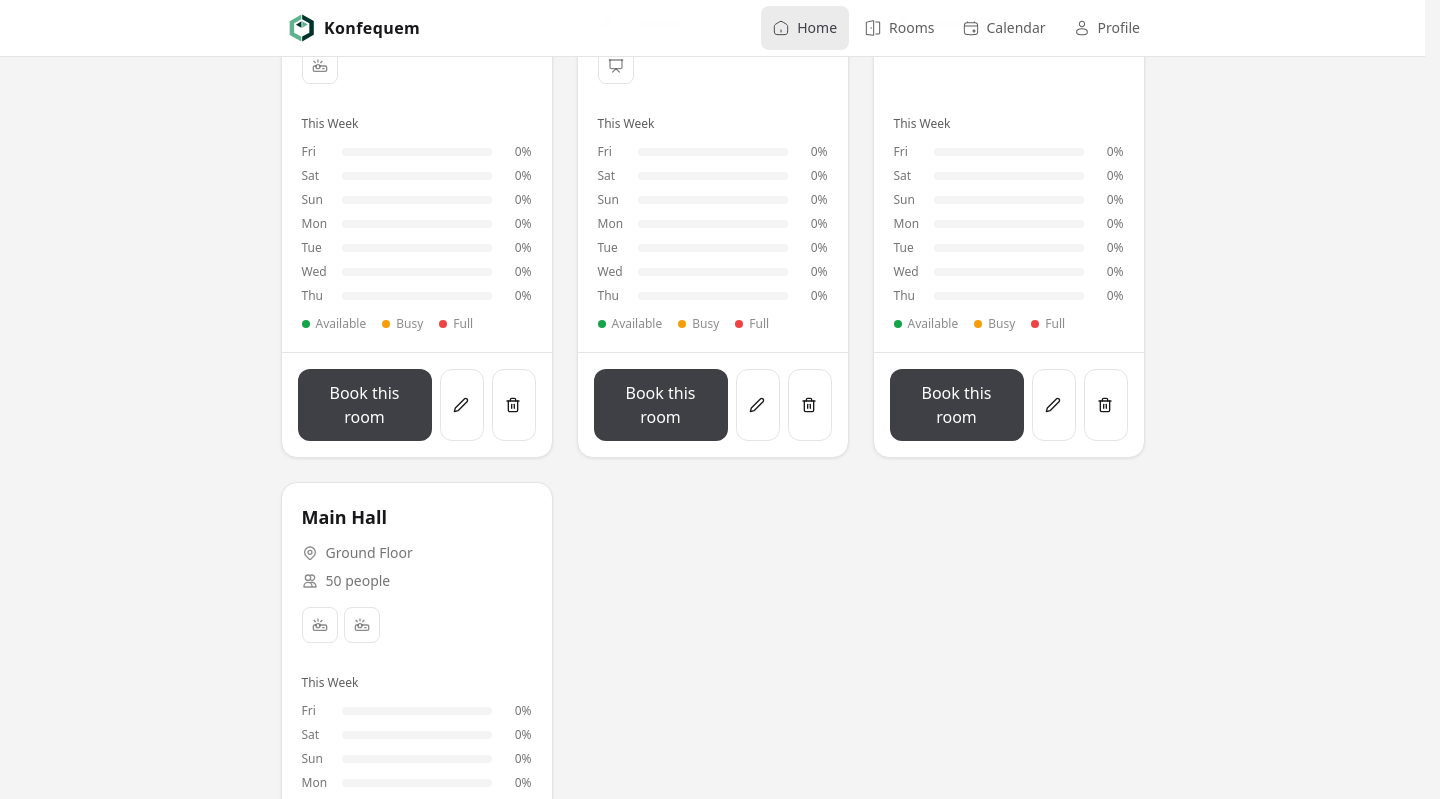
Test: RoomsPage room management › deletes a room after confirmation
(page scrolled)
Click the button named "Delete room Conference Room A" at (514, 405), box [492, 369, 536, 441]
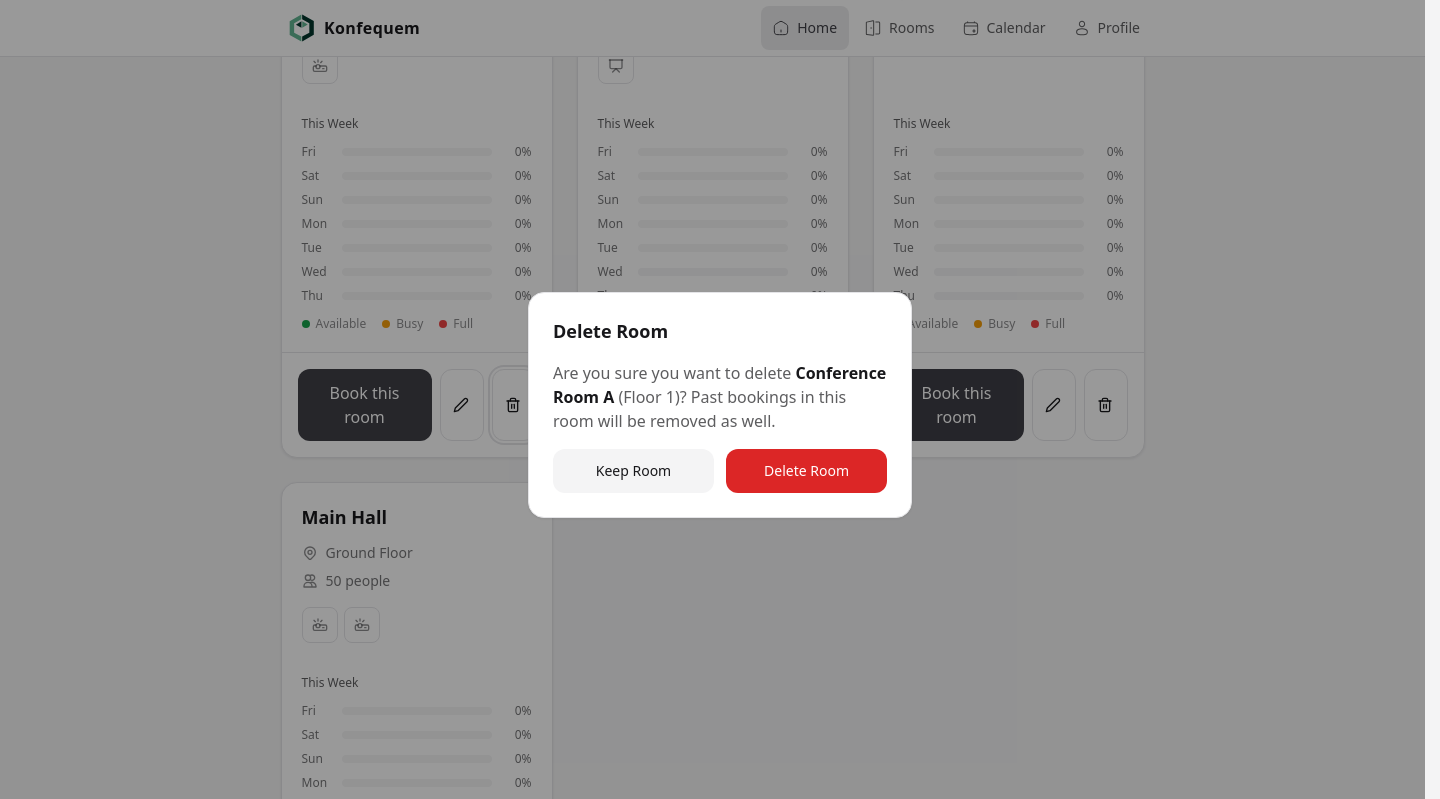
Expected: the text "Conference Room A" is shown, [553, 362, 886, 408]
Click the button "Delete Room" at (806, 471), box [726, 449, 887, 493]
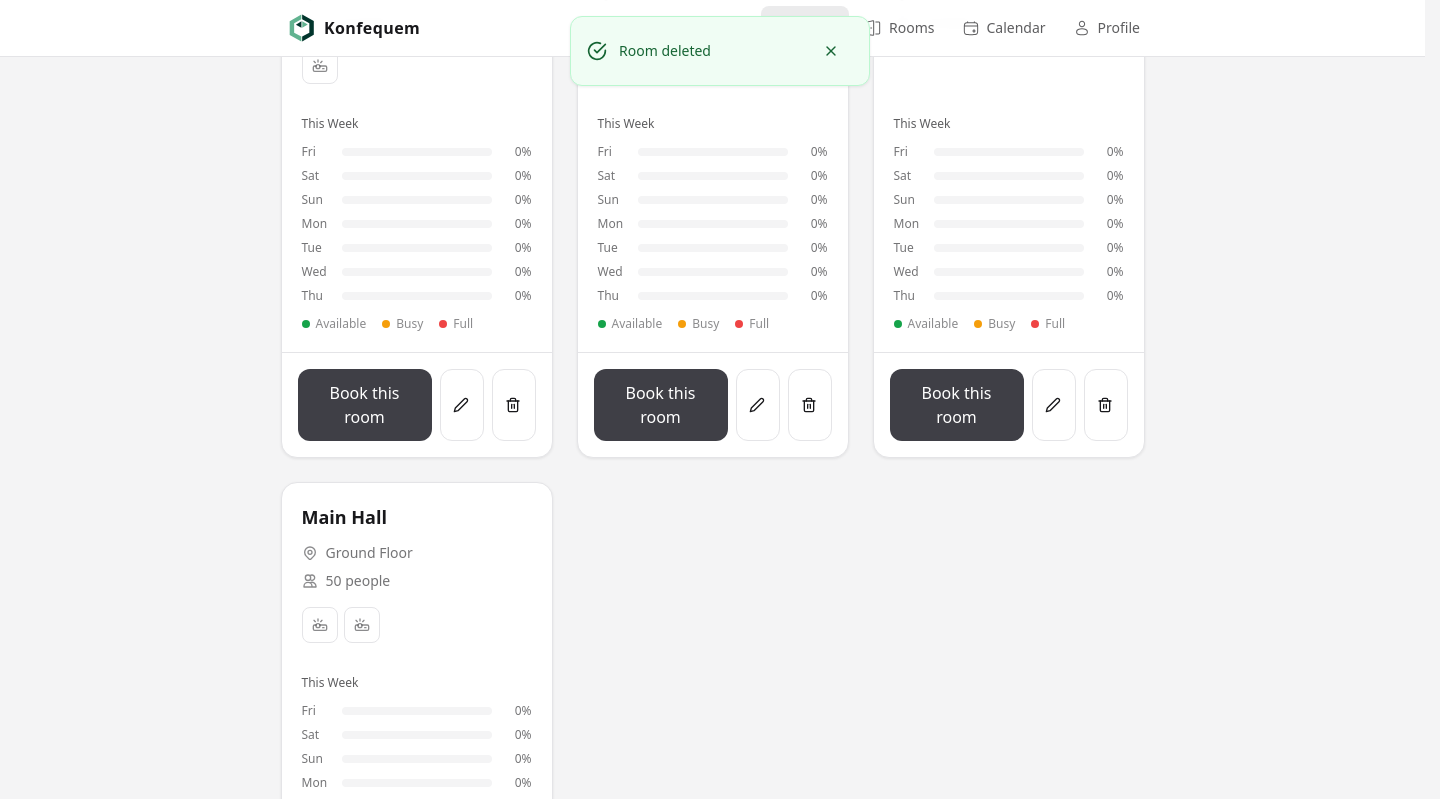
Expected: the text "Room deleted" is shown, [619, 41, 711, 60]
